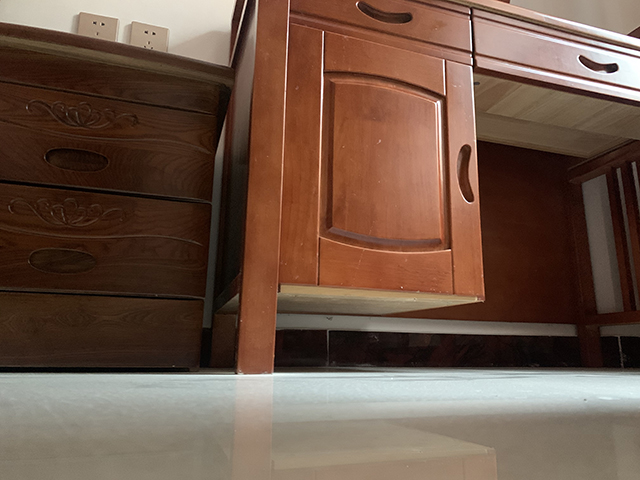cabinet: (1, 20, 235, 372)
table: (212, 1, 640, 375)
